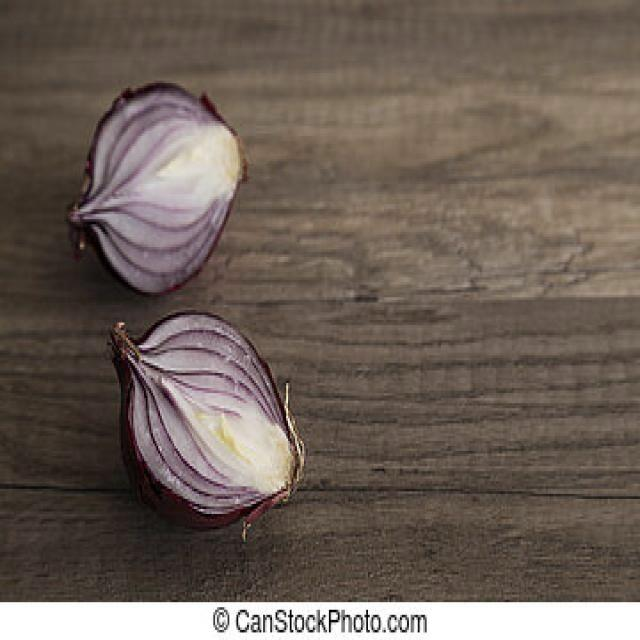onion: (109, 307, 302, 530), (71, 78, 247, 299)
